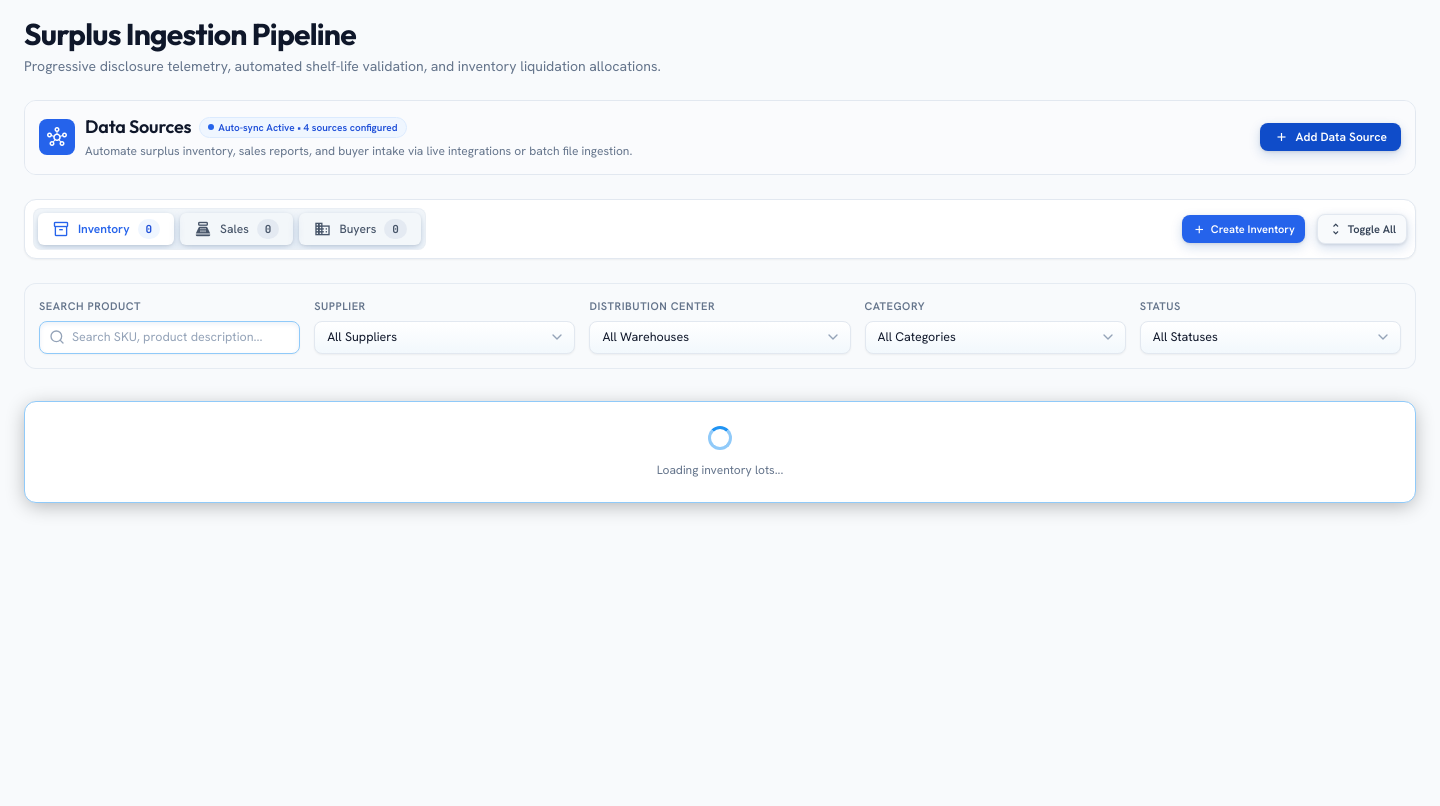
Test: Full-Page Ingestion Connector Suite End-to-End Regression Seam › navigates to full-page CSV Integration Suite from Hub Card and returns cleanly to pipeline
# Click "+ Add Data Source" button in Data Sources Dock (per ADR 0078)
Click the button with test id "data-sources-add-button" at (1330, 137), box [1260,123,1401,151]
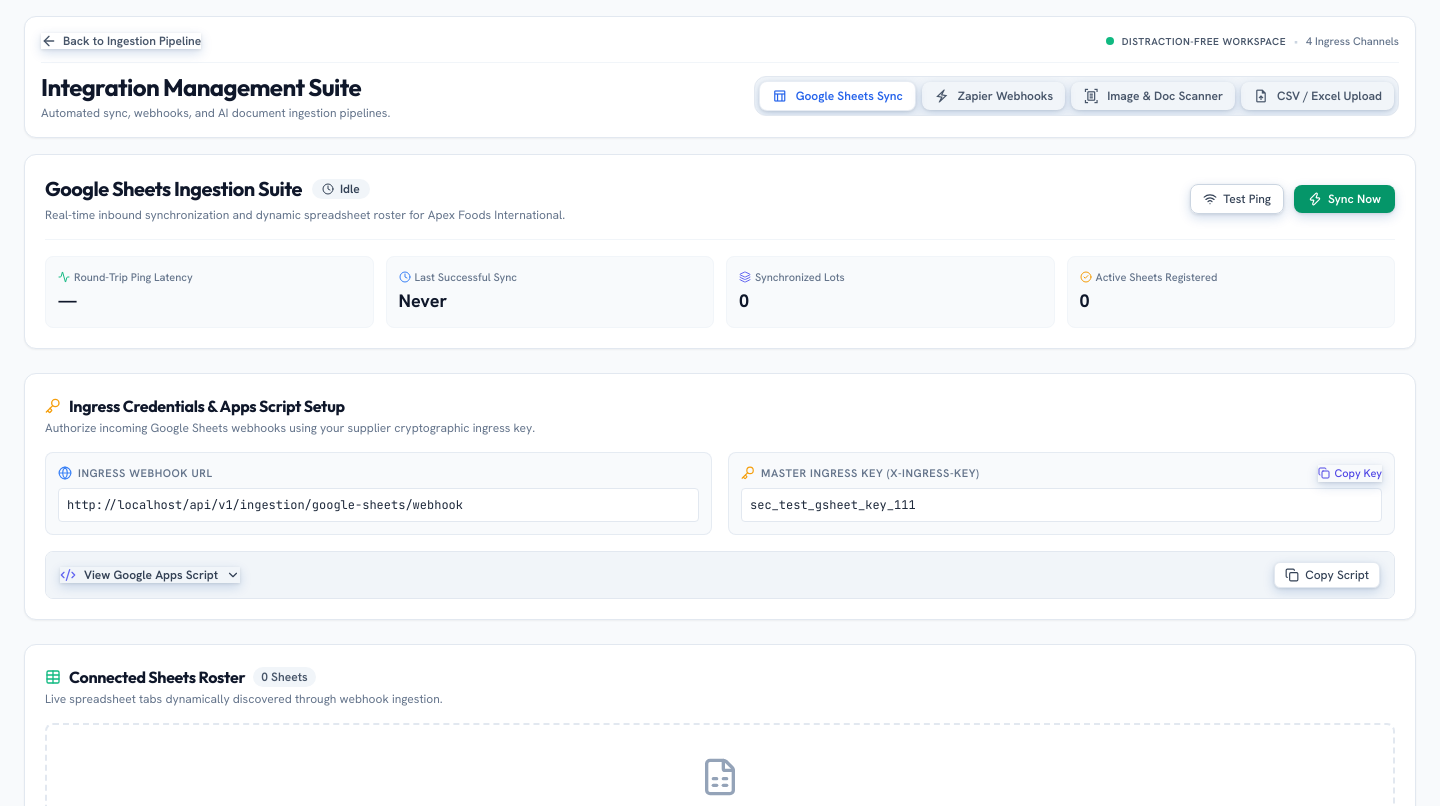
# Switch to CSV / Excel Upload tab in connector shell
Click the tab "CSV / Excel Upload" at (1318, 96), box [1241,82,1394,110]
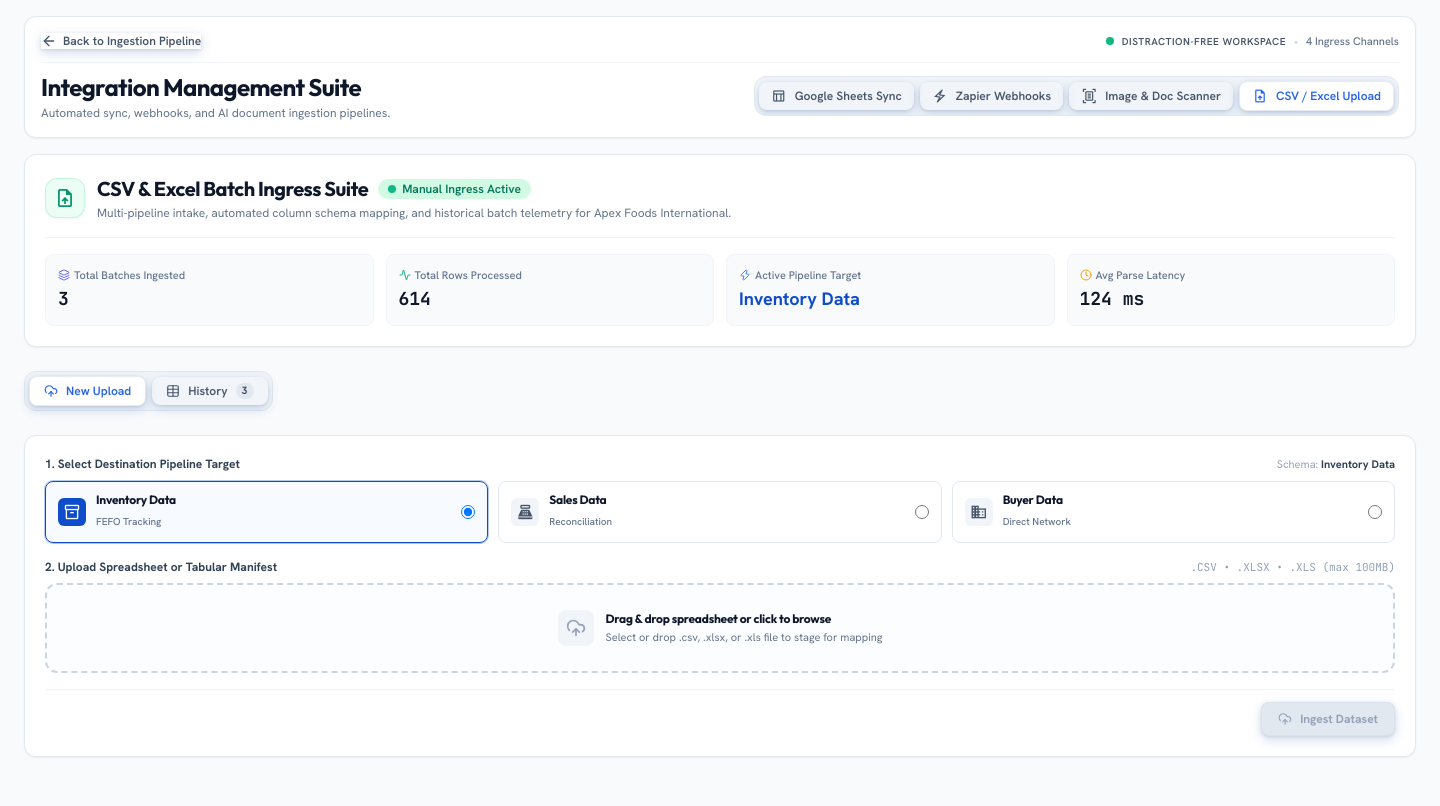
Expected: the element with test id "connector-csv-upload-workspace" is shown
# Click "← Back to Ingestion Pipeline" to return to parent pipeline
Click the button "Back to Ingestion Pipeline" at (121, 41), box [41,33,201,49]
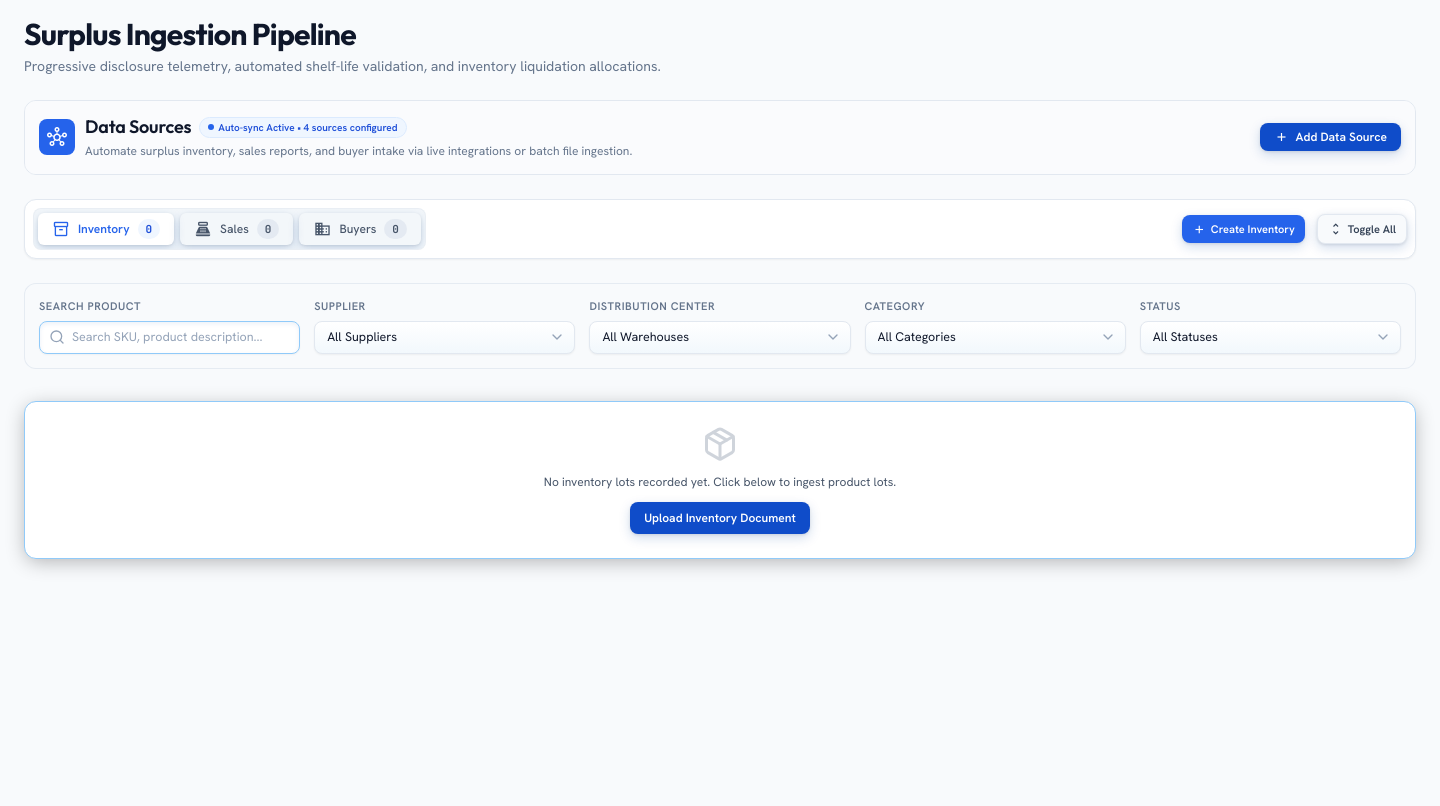
Expected: the element with test id "connector-csv-upload-workspace" is gone
Expected: the heading "Surplus Ingestion Pipeline" is shown, [24,15,356,53]
